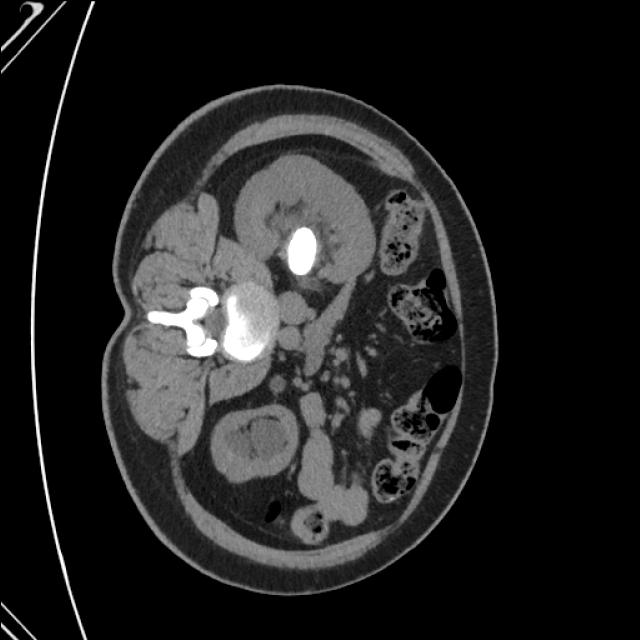kidneystone: (286, 228, 316, 275)
